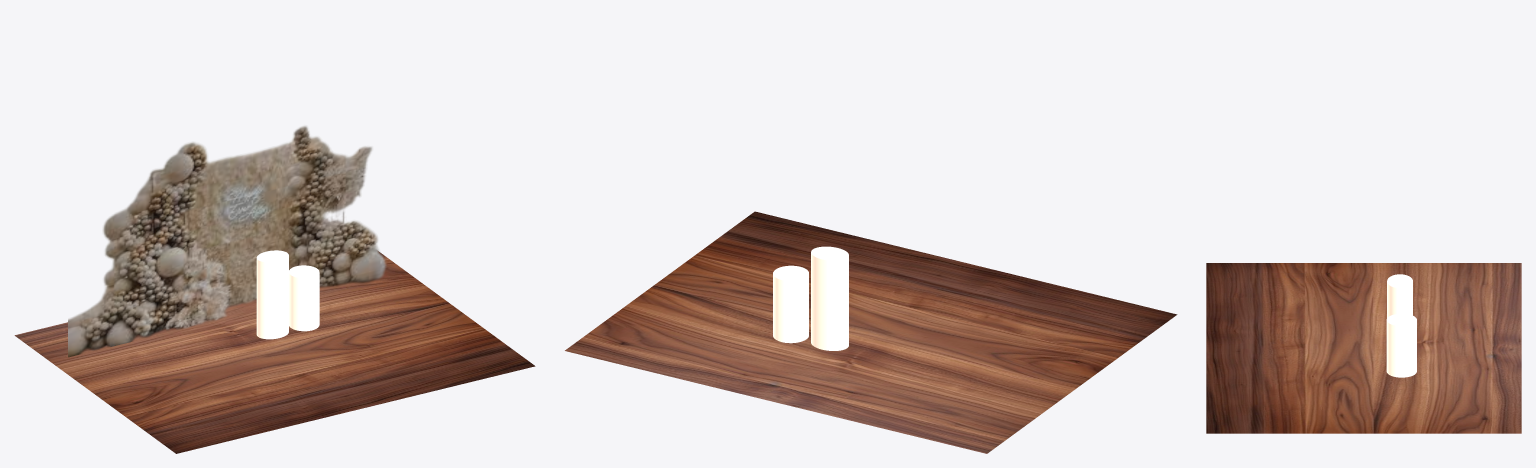
Rendered from white-golden-birthday.glb.
3 renders of one model, left to right at view 1: azimuth 30°, elevation 25°; view 2: azimuth 150°, elevation 25°; view 3: azimuth 270°, elevation 25°, orthographic. The views are drawn at different scales.
Parts seen in each view (by area): view 1: Plane (×2), Cylinder (×2); view 2: Plane, Cylinder (×2); view 3: Plane, Cylinder (×2).
Part boxes in pixels (x1,y1,x2,y2): Plane (×2): (14, 125, 535, 453); Cylinder (×2): (256, 250, 319, 339); Plane: (565, 211, 1177, 453); Cylinder (×2): (773, 246, 848, 350); Plane: (1206, 263, 1521, 433); Cylinder (×2): (1386, 274, 1416, 377).
Bounding box in the file's own units: 5.48 × 4.26 × 4.28.
4 materials, 2 textured.
